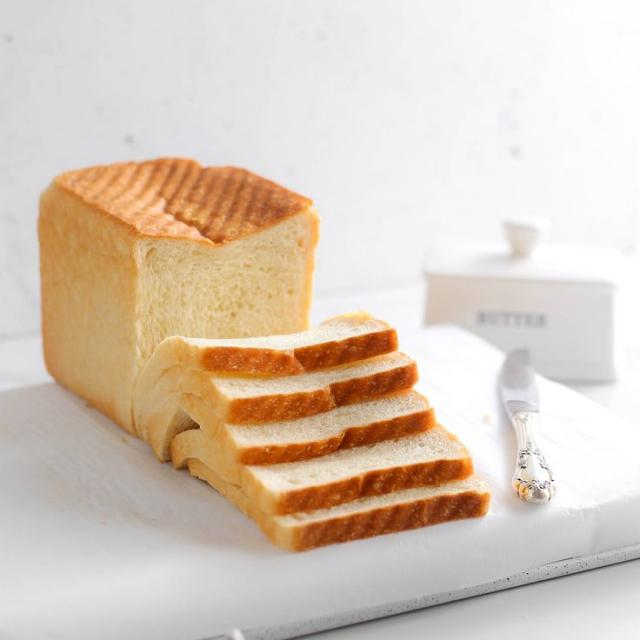sliced_bread: (133, 314, 396, 459), (189, 459, 489, 550), (243, 427, 470, 513), (222, 390, 436, 463), (187, 353, 414, 421), (170, 429, 241, 482)
